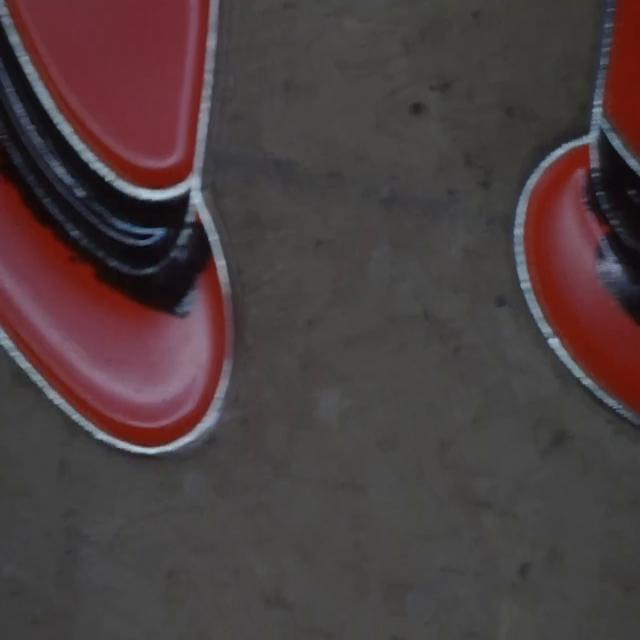Hatband: (0, 23, 189, 276), (591, 129, 640, 242)
Paint_Leak: (95, 204, 211, 314), (596, 231, 640, 324)
